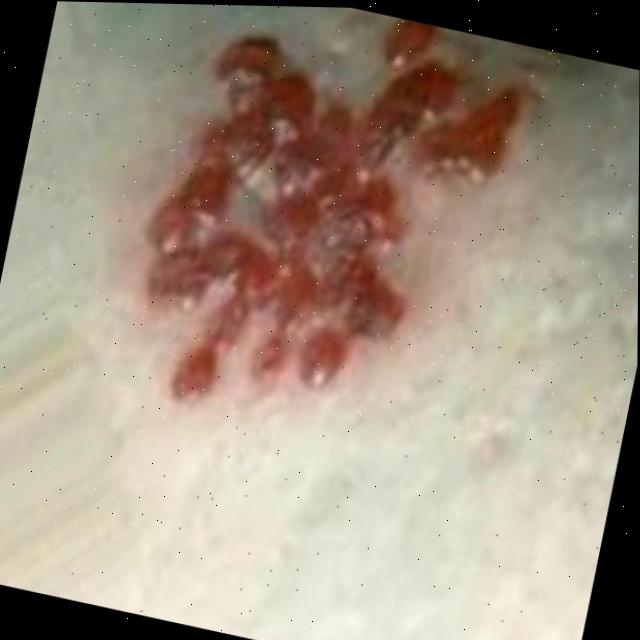Shingles: (115, 3, 549, 482)
